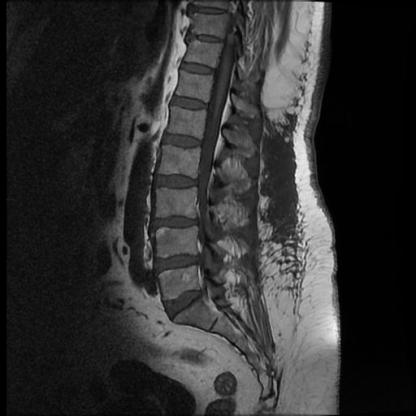Degenerative Disc Diseaserotation: (156, 250, 201, 275)
Disc Bulgerotation: (156, 250, 201, 275), (162, 289, 207, 313), (154, 172, 200, 193), (154, 213, 199, 233), (164, 132, 202, 152)
